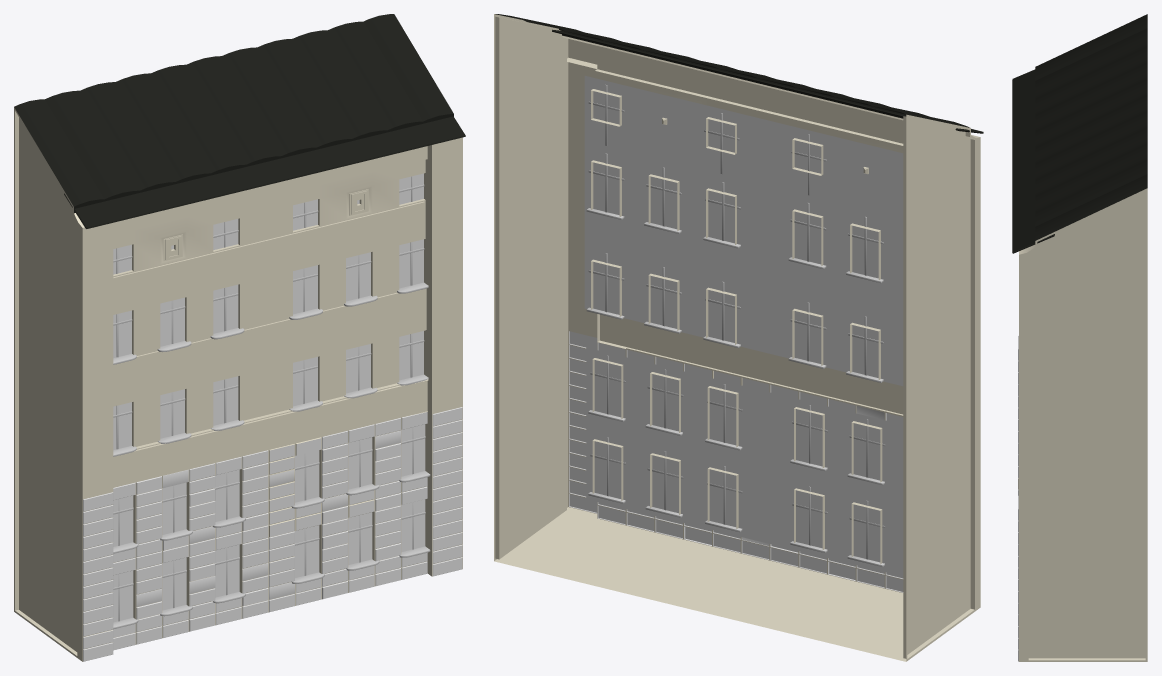
Rendered from classical.002.fbx.
3 renders of one model, left to right at view 1: azimuth 30°, elevation 25°; view 2: azimuth 150°, elevation 25°; view 3: azimuth 270°, elevation 25°, orthographic. The views are drawn at different scales.
Visible parts, largest first — view 1: classical.002, roof.001, windows.002, window_frame.002; view 2: classical.002, windows.002, window_frame.002, roof.001; view 3: classical.002, roof.001.
Part boxes in pixels (box(x1,y1,x2,y2)): classical.002: box(14, 107, 462, 661); roof.001: box(14, 14, 465, 228); windows.002: box(113, 173, 425, 622); window_frame.002: box(113, 176, 430, 628); classical.002: box(494, 14, 980, 661); windows.002: box(584, 75, 903, 576); window_frame.002: box(586, 84, 885, 566); roof.001: box(495, 14, 983, 133); classical.002: box(1018, 188, 1147, 661); roof.001: box(1012, 14, 1147, 253).
Size of the model in its own units: 1240 by 1580 by 407.
